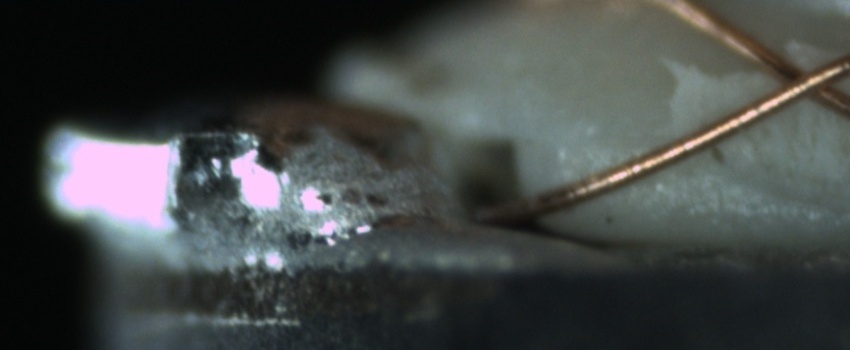CL: (752, 47, 848, 116)
